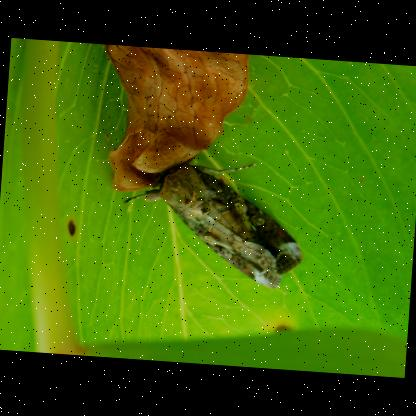Fall Armyworm Moth: (116, 152, 312, 293)
